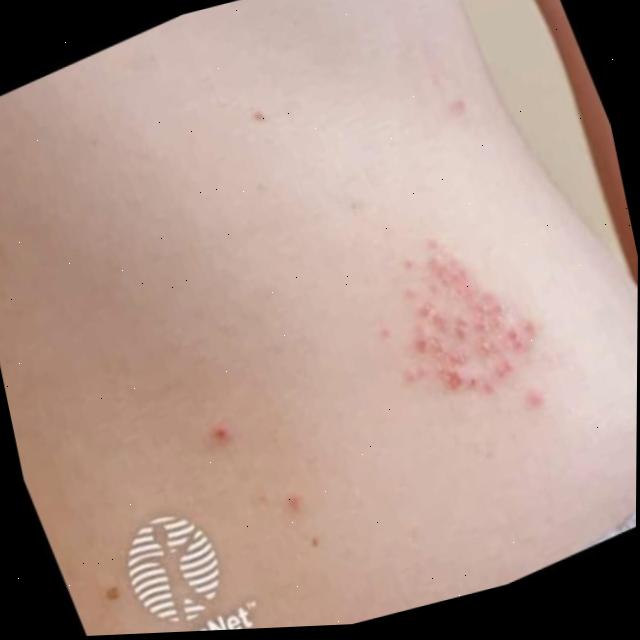Eczema: (363, 206, 551, 435)
